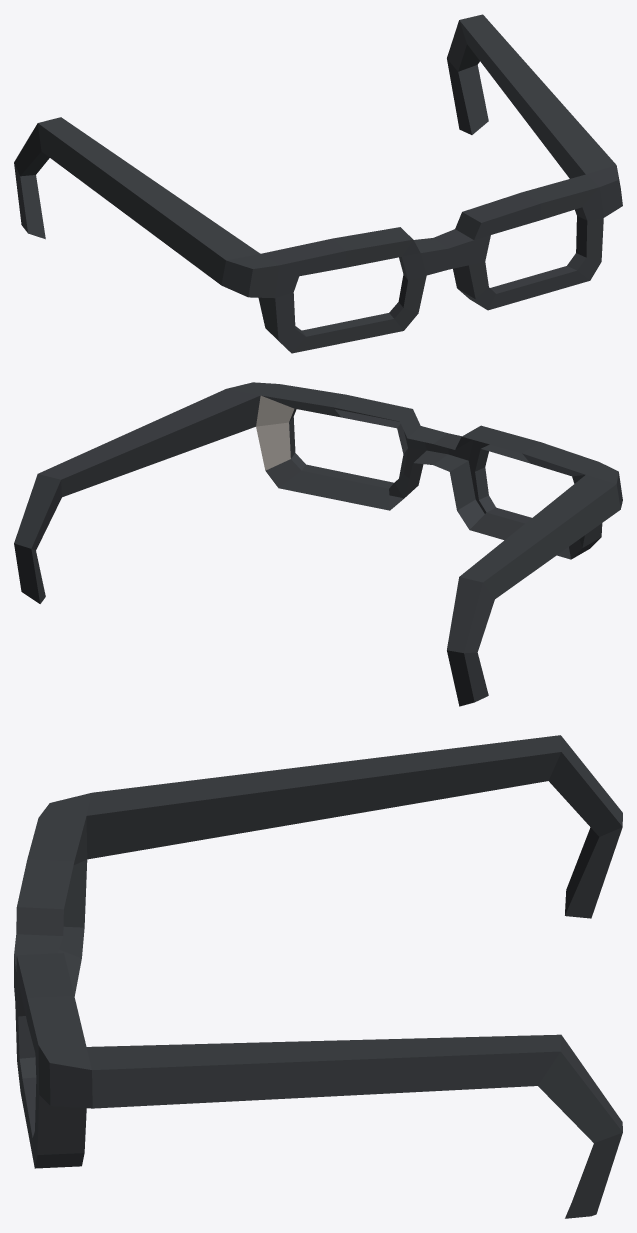
File: SM_Chr_Inspector_Male_Glasses_01.fbx
3 views of the same model, one above another, from view 1: azimuth 30°, elevation 25°; view 2: azimuth 150°, elevation 25°; view 3: azimuth 270°, elevation 25° (orthographic). The views are drawn at different scales.
Visible parts, largest first — view 1: SM_Chr_Inspector_Male_Glasses_01; view 2: SM_Chr_Inspector_Male_Glasses_01; view 3: SM_Chr_Inspector_Male_Glasses_01.
Boxes of the visible parts, x1=… form: SM_Chr_Inspector_Male_Glasses_01: x1=14, y1=14, x2=622, y2=353; SM_Chr_Inspector_Male_Glasses_01: x1=14, y1=382, x2=622, y2=706; SM_Chr_Inspector_Male_Glasses_01: x1=14, y1=735, x2=622, y2=1218.
Bounding box in the file's own units: 24.54 × 6.09 × 19.3.
